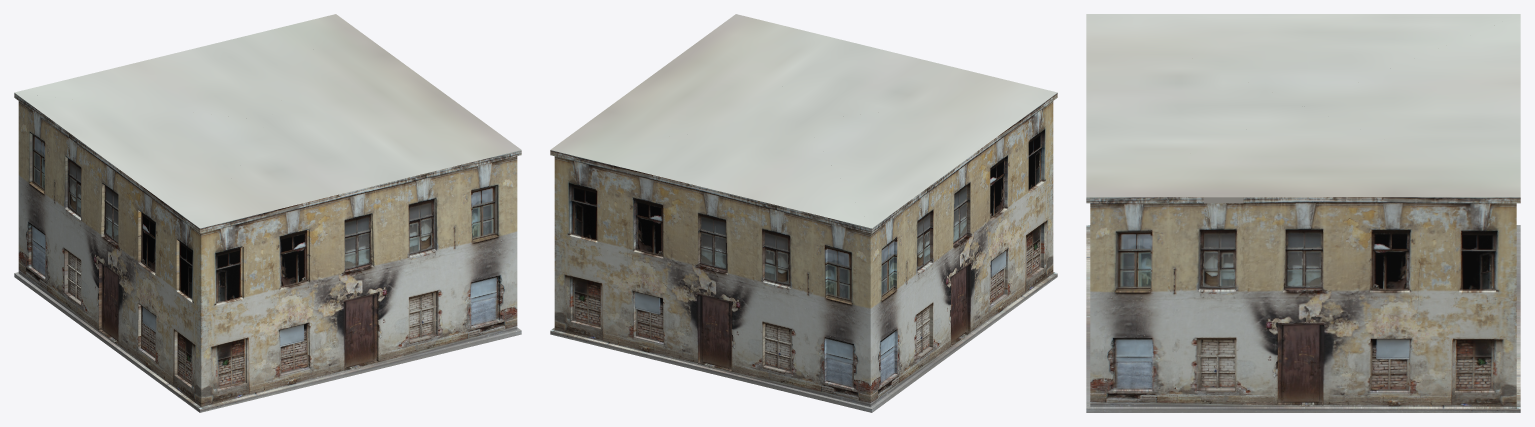
Rendered from abandoned1.FBX.
The picture shows the model from 3 angles, left to right: view 1: azimuth 30°, elevation 25°; view 2: azimuth 150°, elevation 25°; view 3: azimuth 270°, elevation 25°; orthographic projection. The views are drawn at different scales.
Parts seen in each view (by area): view 1: Plane01; view 2: Plane01; view 3: Plane01.
Boxes of the visible parts, bbox=[...] form: Plane01: bbox=[14, 14, 521, 412]; Plane01: bbox=[550, 14, 1057, 412]; Plane01: bbox=[1086, 14, 1520, 412].
Bounding box in the file's own units: 1179 × 646 × 1179.
